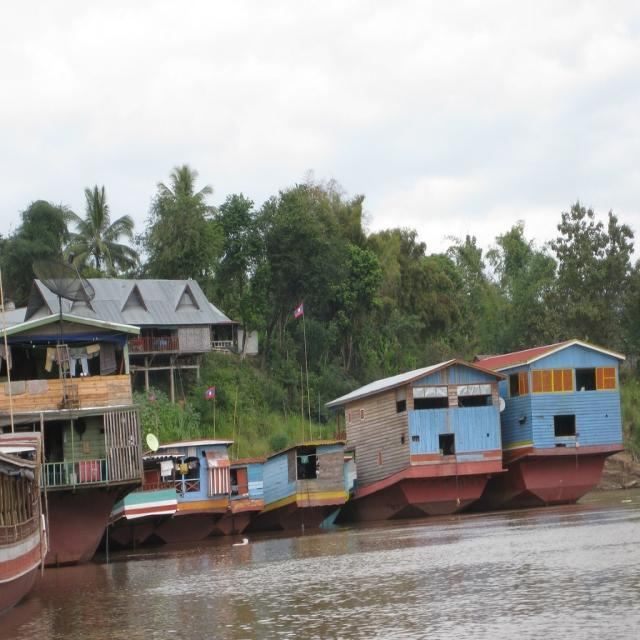boat: (342, 351, 510, 522), (504, 336, 634, 510), (276, 436, 353, 530)
